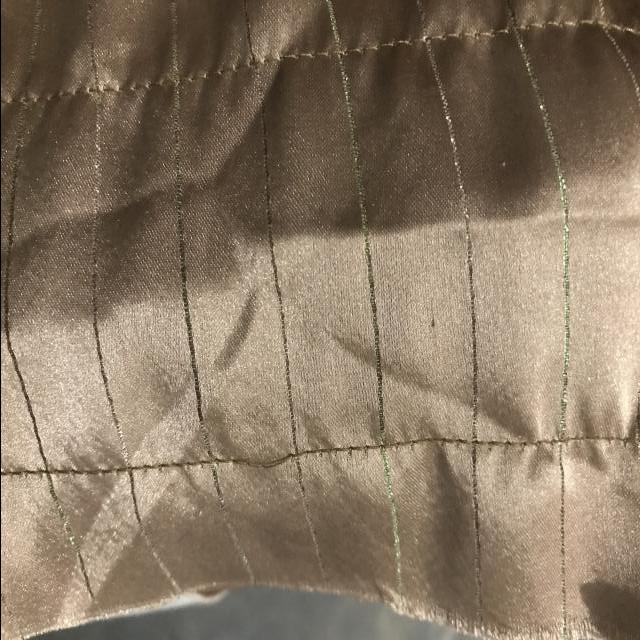Skip: (237, 437, 309, 486)
